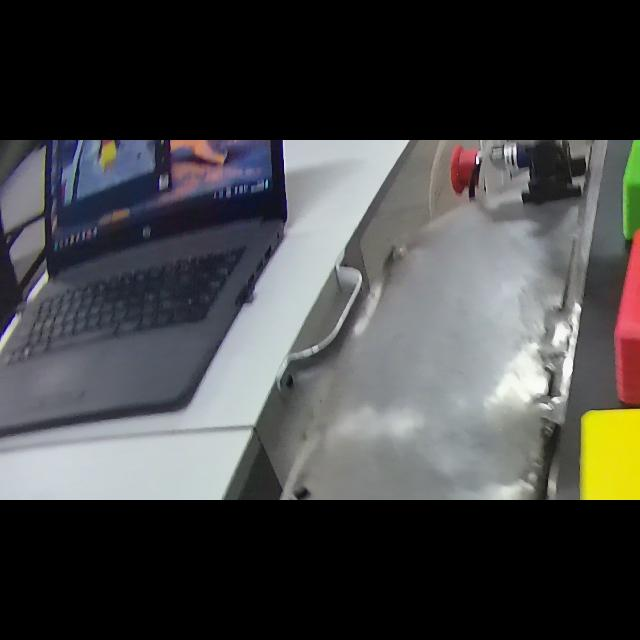greenBox: (616, 140, 640, 244)
redBox: (604, 219, 640, 411)
yellowBox: (576, 398, 640, 499)
